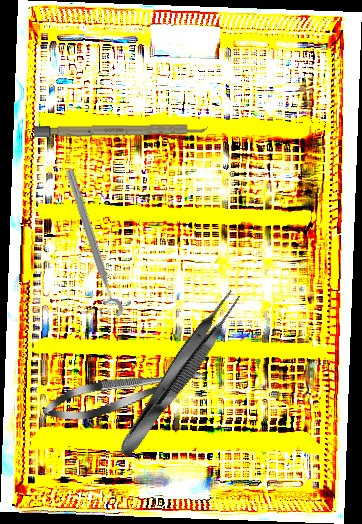Fixation Ring: (53, 167, 125, 322)
Micro Scissor: (39, 357, 209, 429)
Scalpel Handle: (33, 123, 209, 138)
Tissue Forceps: (110, 284, 248, 463)
